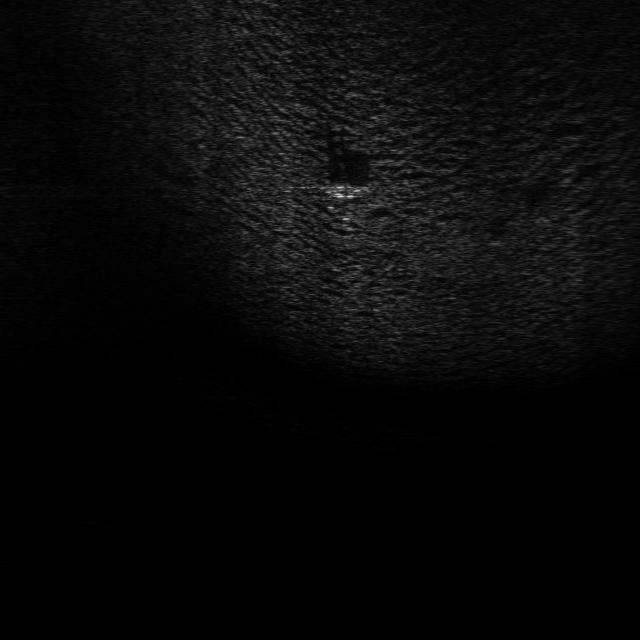plane: (322, 180, 369, 200)
